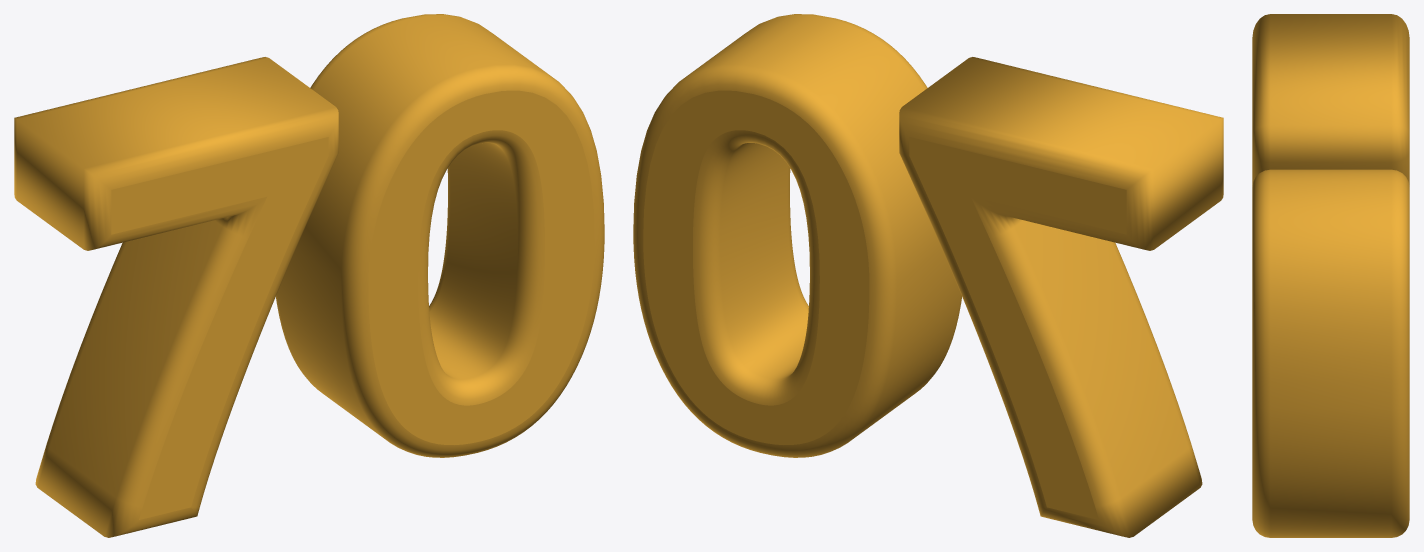
The picture shows the model from 3 angles, left to right: view 1: azimuth 30°, elevation 25°; view 2: azimuth 150°, elevation 25°; view 3: azimuth 270°, elevation 25°; orthographic projection. The views are drawn at different scales.
Visible parts, largest first — view 1: Text; view 2: Text; view 3: Text.
Boxes of the visible parts, left/top/right/bottom form: Text: left=14, top=14, right=604, bottom=537; Text: left=633, top=14, right=1223, bottom=537; Text: left=1252, top=14, right=1409, bottom=537.
Size of the model in its own units: 89.27 by 63.03 by 26.
